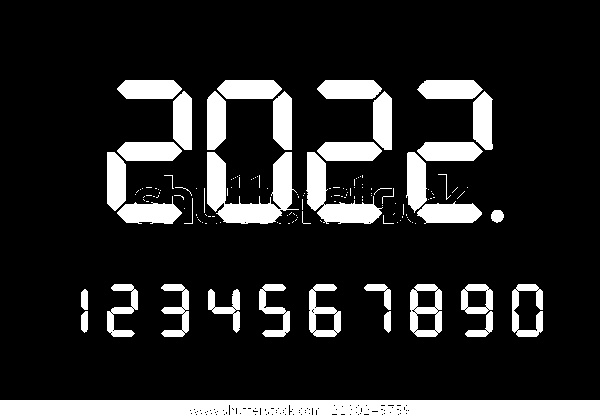dot: (490, 209, 505, 224)
eight: (410, 284, 441, 337)
five: (259, 283, 290, 336)
four: (207, 289, 240, 333)
nine: (460, 284, 494, 338)
one: (80, 289, 89, 332)
seven: (364, 284, 392, 335)
six: (308, 284, 341, 337)
three: (160, 283, 190, 336)
two: (305, 80, 393, 224), (107, 80, 192, 223), (407, 80, 491, 222), (107, 284, 137, 338)
zero: (207, 80, 291, 222), (512, 283, 544, 336)
